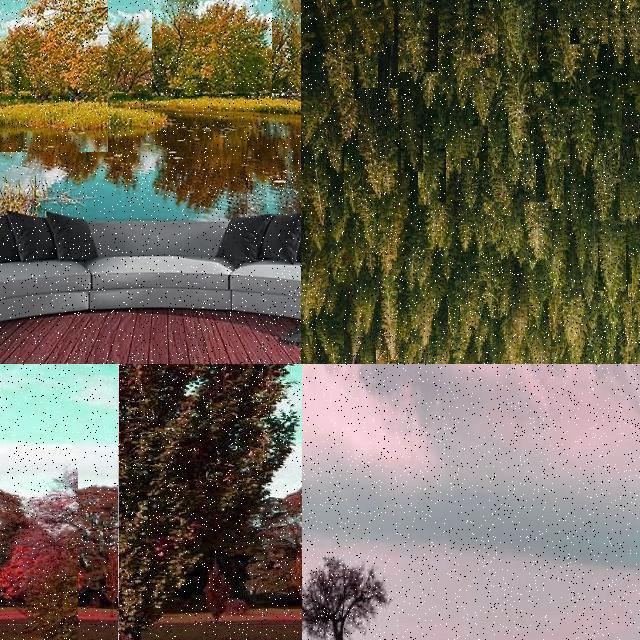tree: (118, 364, 302, 640), (179, 364, 301, 604), (42, 461, 152, 614), (0, 0, 108, 152), (0, 454, 78, 640), (152, 0, 272, 96), (59, 15, 164, 93), (302, 556, 398, 640), (358, 88, 398, 194), (259, 0, 301, 96), (596, 64, 634, 168), (256, 8, 300, 92), (446, 0, 490, 82), (378, 178, 410, 278), (534, 82, 570, 166), (398, 0, 438, 72), (498, 0, 538, 72), (570, 81, 598, 175), (606, 0, 640, 76), (604, 1, 640, 72), (624, 114, 640, 266), (502, 70, 530, 154), (322, 27, 352, 102), (554, 0, 580, 84), (608, 0, 640, 68), (465, 0, 505, 54), (544, 208, 570, 290), (624, 115, 640, 243), (620, 0, 640, 100), (576, 0, 608, 62), (598, 221, 626, 291), (620, 0, 640, 94), (570, 0, 612, 44), (418, 139, 446, 205), (420, 38, 446, 108), (456, 277, 480, 351), (301, 256, 327, 324), (347, 278, 367, 364), (620, 138, 640, 222), (594, 153, 618, 223), (401, 96, 423, 172), (352, 0, 384, 52), (622, 102, 640, 194), (620, 219, 640, 301), (392, 0, 426, 48), (624, 0, 640, 102), (468, 68, 496, 126), (524, 202, 552, 260), (378, 0, 418, 40), (572, 192, 592, 272), (428, 0, 462, 46), (301, 0, 331, 52), (412, 210, 432, 286), (381, 276, 399, 360), (479, 251, 501, 319), (304, 164, 328, 226), (536, 159, 564, 209), (328, 188, 352, 245), (338, 0, 364, 52), (354, 44, 378, 100), (624, 19, 640, 101), (301, 76, 319, 148), (431, 0, 463, 40), (620, 0, 640, 64), (626, 0, 640, 91), (316, 320, 344, 364), (436, 120, 454, 188), (620, 0, 640, 60), (488, 112, 508, 172), (356, 198, 378, 252), (529, 271, 549, 329), (450, 112, 468, 176), (340, 97, 364, 145), (563, 294, 585, 346), (536, 1, 564, 40), (626, 129, 640, 207), (426, 193, 446, 247), (344, 155, 362, 213), (314, 74, 334, 126), (461, 158, 479, 214), (505, 207, 523, 261), (492, 168, 512, 216), (509, 296, 529, 344), (628, 224, 640, 300), (506, 0, 534, 32), (364, 282, 381, 334), (374, 0, 394, 44), (628, 48, 640, 120), (466, 113, 484, 161), (628, 260, 640, 332), (305, 212, 327, 250), (472, 204, 488, 256), (484, 202, 504, 242), (622, 297, 638, 347), (628, 216, 640, 282), (327, 0, 353, 30), (624, 0, 640, 48), (326, 126, 342, 174), (628, 184, 640, 248), (416, 301, 432, 349), (438, 247, 458, 285), (620, 0, 640, 36), (572, 0, 596, 28), (456, 209, 472, 251), (628, 284, 640, 340), (530, 332, 550, 364), (312, 125, 328, 164), (628, 312, 640, 363), (630, 128, 640, 186), (328, 242, 344, 278), (628, 236, 640, 284), (628, 96, 640, 140), (620, 0, 640, 26), (430, 282, 446, 314), (301, 328, 313, 364), (490, 340, 508, 364), (632, 264, 640, 314), (300, 5, 308, 53), (366, 248, 378, 280), (632, 268, 640, 316), (448, 307, 460, 337), (630, 0, 640, 32), (360, 344, 376, 364), (399, 318, 411, 344), (301, 170, 307, 218), (632, 94, 640, 130), (463, 344, 477, 364), (376, 350, 388, 364)
